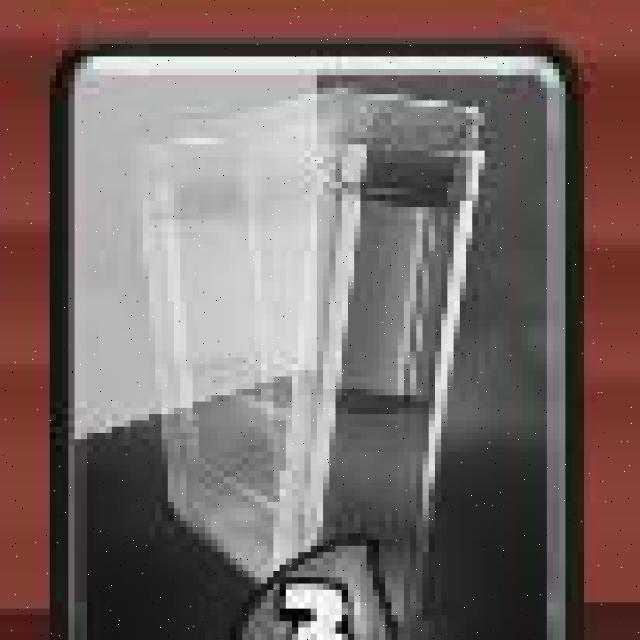Clone_Spell: (39, 35, 592, 640)
